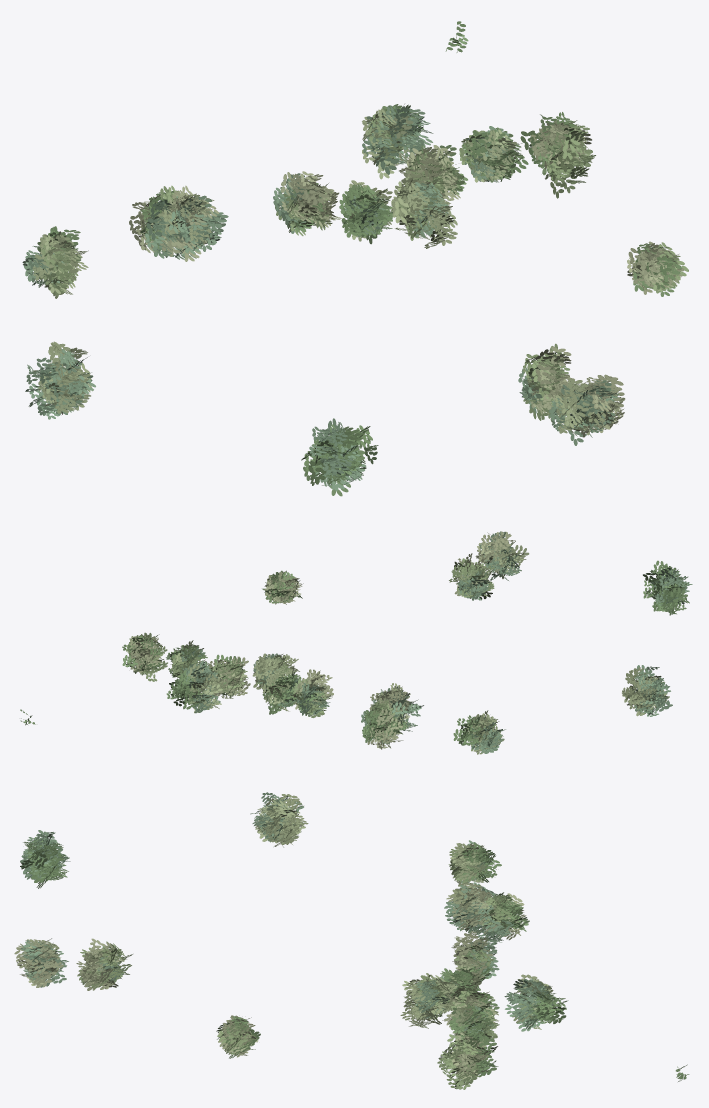
The model's file is campus-tree--1_-1-far-photo.glb.
3 views of the same model, one above another, from view 1: azimuth 30°, elevation 25°; view 2: azimuth 150°, elevation 25°; view 3: azimuth 270°, elevation 25° (orthographic). The views are drawn at different scales.
Visible parts, largest first — view 1: Campus leaf canopy; view 2: Campus leaf canopy; view 3: Campus leaf canopy.
Part boxes in pixels (x1,y1,x2,y2): Campus leaf canopy: [22, 21, 688, 496]; Campus leaf canopy: [20, 531, 692, 754]; Campus leaf canopy: [14, 792, 689, 1089].
Size of the model in its own units: 62.81 by 8.5 by 68.13.
Materials: 1 (1 with a texture image).
